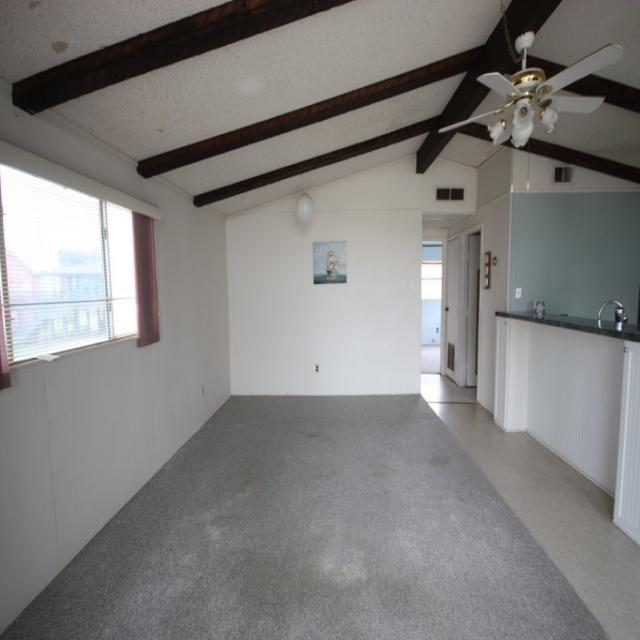fan_off: (434, 37, 614, 127)
